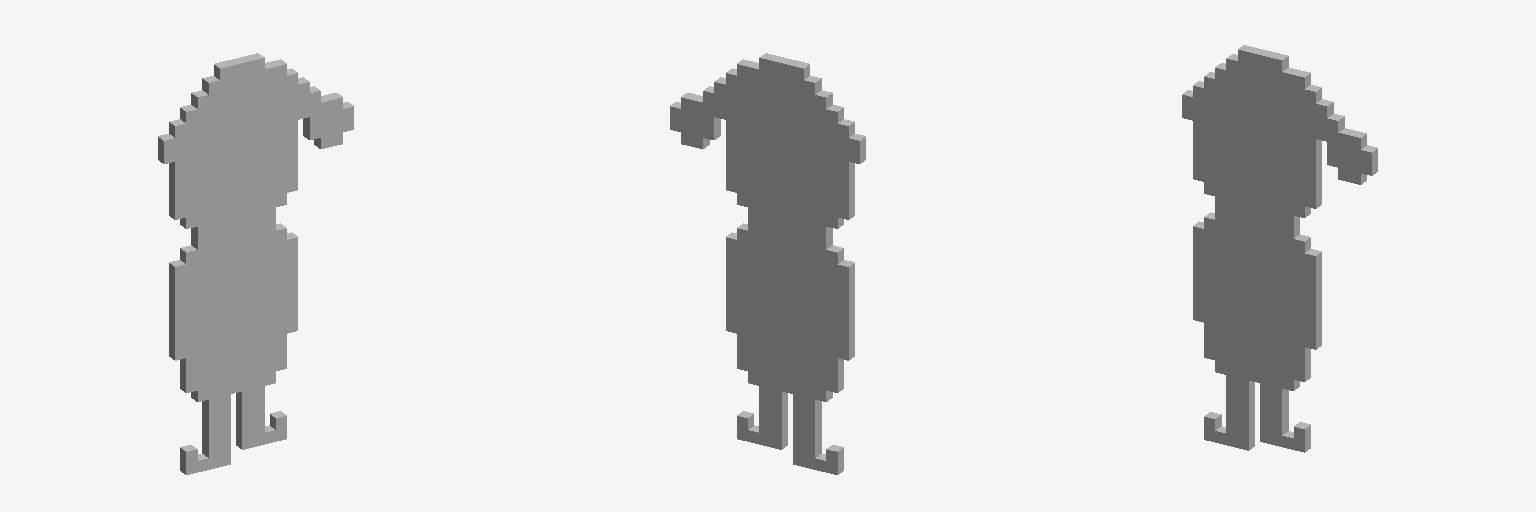
File: elf walk 2.obj
3 renders of one model, left to right at view 1: azimuth 30°, elevation 25°; view 2: azimuth 150°, elevation 25°; view 3: azimuth 330°, elevation 25°, orthographic.
Visible parts, largest first — view 1: object 1; view 2: object 1; view 3: object 1.
Boxes of the visible parts, box(x1,y1,x2,y2) form: object 1: box(158, 53, 353, 474); object 1: box(670, 53, 865, 474); object 1: box(1182, 45, 1377, 452).
Bounding box in the file's own units: 1.7 × 3.4 × 0.1.